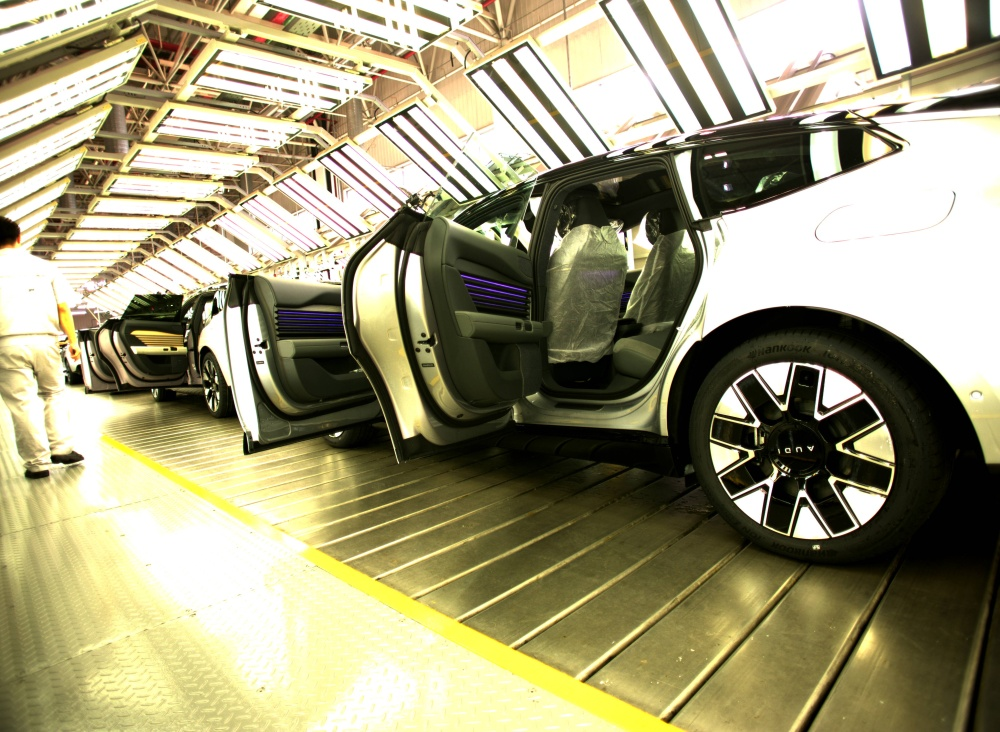armrest_color: (453, 308, 546, 345), (274, 335, 349, 363)
panel_color: (457, 267, 531, 320), (273, 308, 345, 333)
